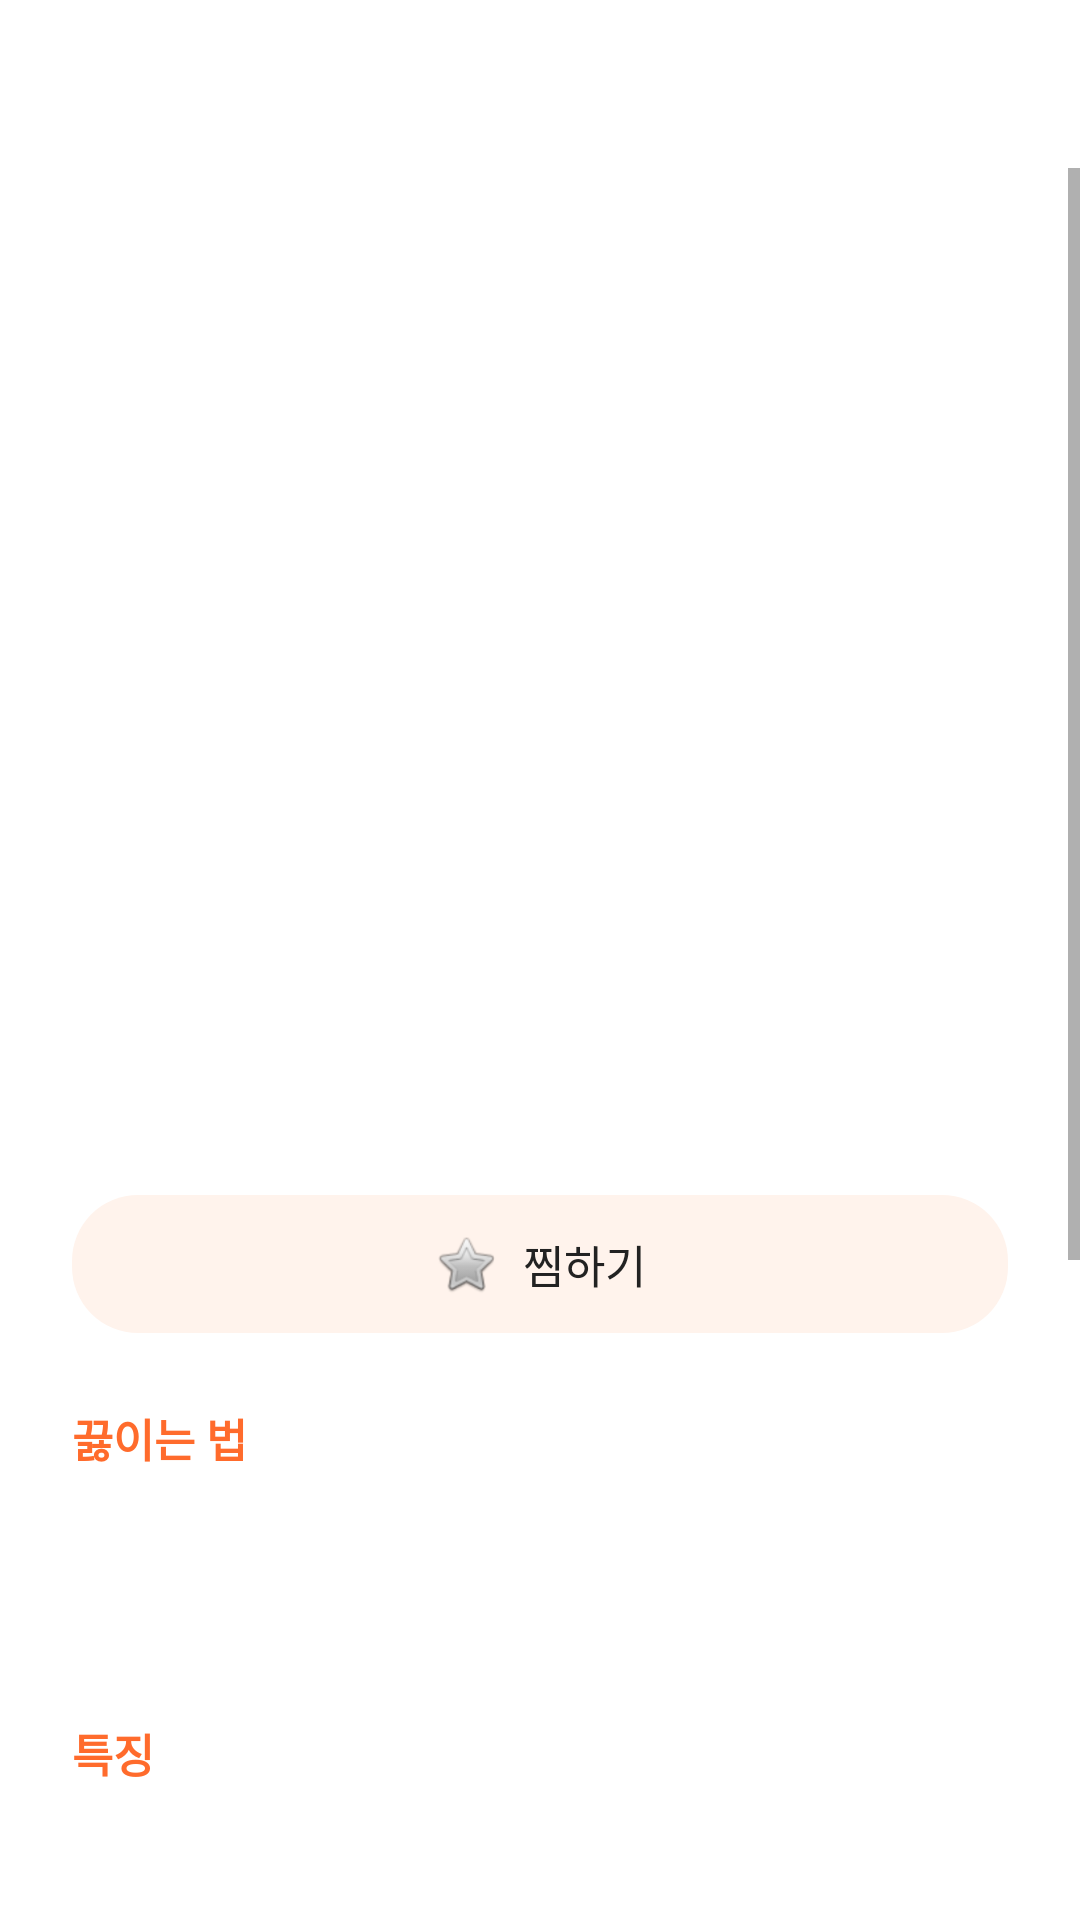

Icon click points for this 1080px x 1920px phone screenshot, format (x,y):
star off: (466,1264)
